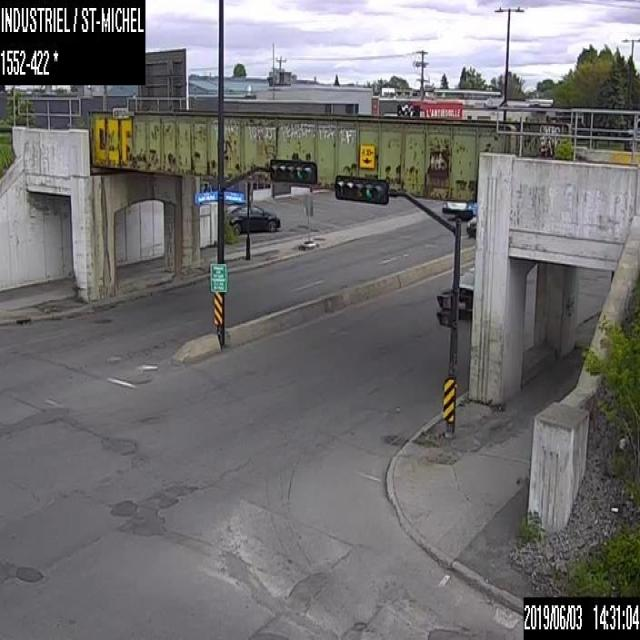bus: (442, 199, 476, 218)
vehicle: (224, 200, 281, 233), (456, 263, 473, 321), (466, 213, 476, 236)
